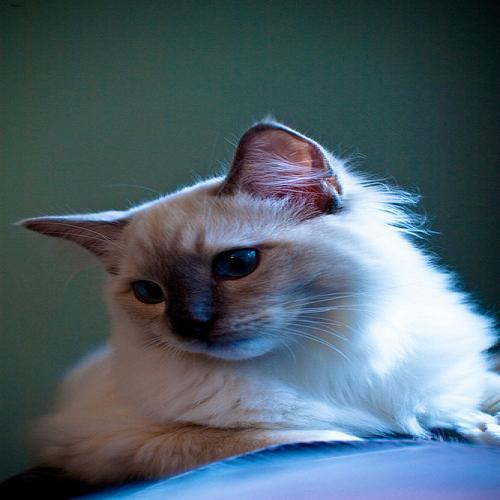ragdoll: (18, 118, 378, 369)
